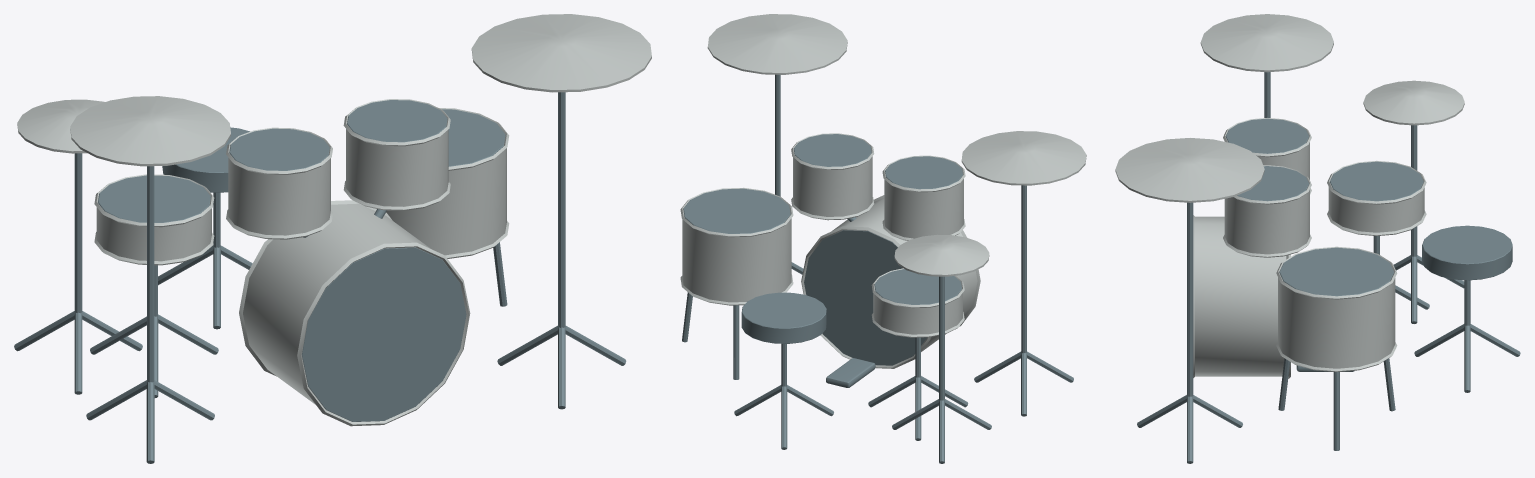
File: drum-kit.glb
The picture shows the model from 3 angles, left to right: view 1: azimuth 30°, elevation 25°; view 2: azimuth 150°, elevation 25°; view 3: azimuth 270°, elevation 25°; orthographic projection. The views are drawn at different scales.
Parts seen in each view (by area): view 1: bass_head.001, bass_shell, cymbal.001, cymbal, floor_tom_shell, rack_tom_shell, rack_tom_shell.001, snare_head.001, snare_shell, rack_tom_head.001, rack_tom_head.003, cymbal.002 (+14 smaller); view 2: bass_head, floor_tom_shell, cymbal.001, cymbal, floor_tom_head.001, rack_tom_shell.001, stool_cushion, rack_tom_shell, cymbal.002, snare_shell, snare_head.001, rack_tom_head.001 (+13 smaller); view 3: bass_shell, floor_tom_shell, cymbal.001, cymbal, floor_tom_head.001, rack_tom_shell.001, stool_cushion, cymbal.002, snare_head.001, snare_shell, rack_tom_head.001, rack_tom_head.003 (+12 smaller).
Part boxes in pixels (x1,y1,x2,y2): bass_head.001: (302,247,466,421); bass_shell: (243,203,430,404); cymbal.001: (471,14,651,92); cymbal: (70,96,230,166); floor_tom_shell: (386,148,506,255); rack_tom_shell: (228,158,330,235); rack_tom_shell.001: (346,129,448,206); snare_head.001: (98,175,210,222); snare_shell: (96,207,211,261); rack_tom_head.001: (229,128,329,170); rack_tom_head.003: (347,100,447,142); cymbal.002: (17,99,104,153); bass_head: (804,230,926,365); floor_tom_shell: (682,218,791,302); cymbal.001: (707,14,847,74); cymbal: (961,131,1086,185); floor_tom_head.001: (683,188,790,233); rack_tom_shell.001: (793,156,872,216); stool_cushion: (741,292,826,343); rack_tom_shell: (884,179,963,238); cymbal.002: (894,234,989,276); snare_shell: (873,293,962,334); snare_head.001: (874,269,961,304); rack_tom_head.001: (885,156,962,189); bass_shell: (1195,216,1286,376); floor_tom_shell: (1278,277,1395,368); cymbal.001: (1115,138,1264,202); cymbal: (1200,14,1333,72); floor_tom_head.001: (1279,247,1394,296); rack_tom_shell.001: (1224,189,1309,254); stool_cushion: (1422,225,1512,280); cymbal.002: (1363,80,1464,125); snare_head.001: (1330,161,1423,201); snare_shell: (1328,187,1424,232); rack_tom_head.001: (1225,118,1308,153); rack_tom_head.003: (1237,166,1308,201).
Bounding box in the file's own units: 1.83 × 1.17 × 1.52.
